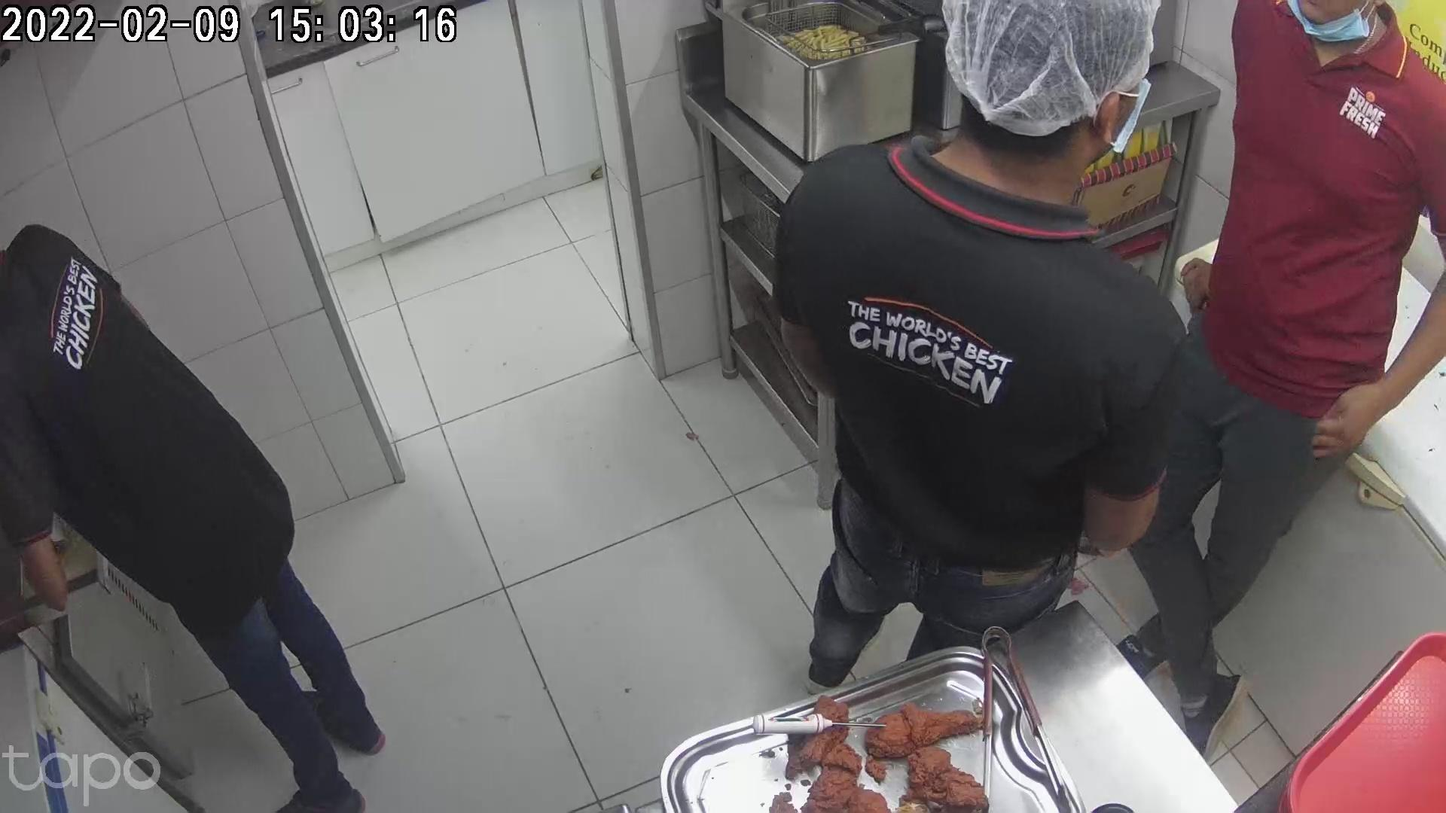no_gloves: (530, 286, 687, 361)
